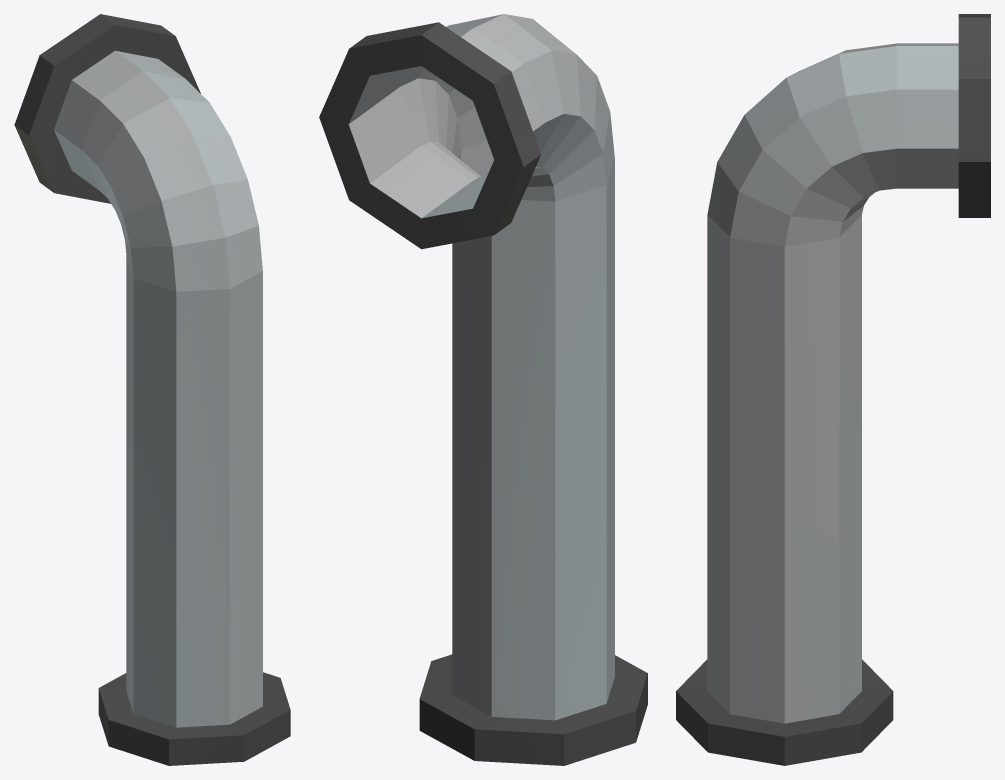
File: Pipe_big_long_1.fbx
3 views of the same model, side by side, from view 1: azimuth 30°, elevation 25°; view 2: azimuth 150°, elevation 25°; view 3: azimuth 270°, elevation 25° (orthographic). The views are drawn at different scales.
Visible parts, largest first — view 1: Pipe_big_long_1; view 2: Pipe_big_long_1; view 3: Pipe_big_long_1.
Boxes of the visible parts, x1=… form: Pipe_big_long_1: x1=14, y1=14, x2=290, y2=765; Pipe_big_long_1: x1=319, y1=14, x2=647, y2=765; Pipe_big_long_1: x1=676, y1=14, x2=990, y2=765.
Size of the model in its own units: 54.15 by 193 by 78.49.
